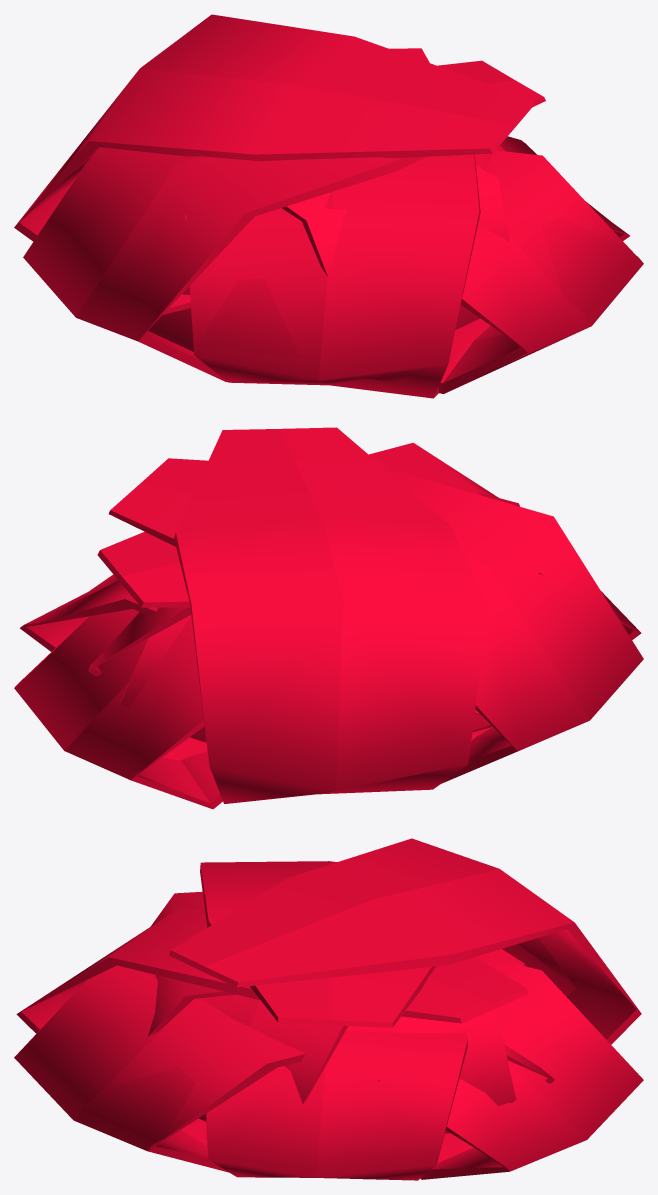
File: flower_petals_opening_low_poly_animation.glb
The picture shows the model from 3 angles, top to bottom: view 1: azimuth 30°, elevation 25°; view 2: azimuth 150°, elevation 25°; view 3: azimuth 270°, elevation 25°; orthographic projection. The views are drawn at different scales.
Parts seen in each view (by area): view 1: PetalsShape1, PetalsShape9; view 2: PetalsShape1, PetalsShape9; view 3: PetalsShape1, PetalsShape9.
Boxes of the visible parts, x1,y1,x2,y2 form: PetalsShape1: (14,14,643,398); PetalsShape9: (148,145,509,351); PetalsShape1: (14,427,643,809); PetalsShape9: (88,492,519,742); PetalsShape1: (14,838,643,1180); PetalsShape9: (148,891,554,1133).
Bounding box in the file's own units: 66.98 × 28.62 × 75.34.
